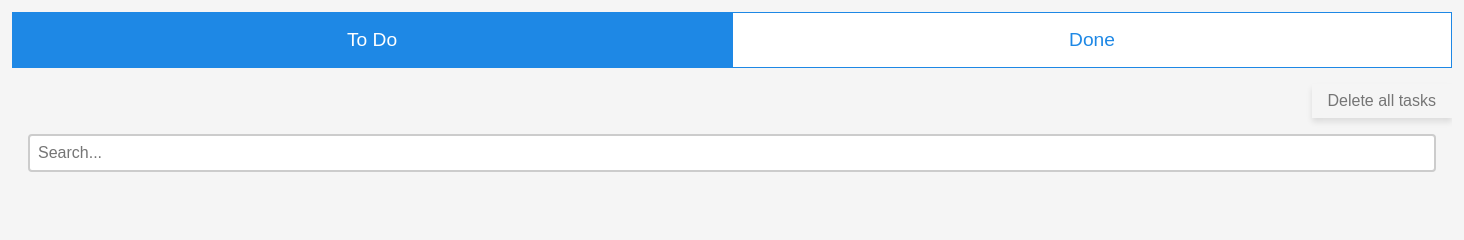
Test: TodoList › displays completed todos when the "Done" tab is clicked
Click the button "Done": (1092, 40) [732, 12, 1452, 68]
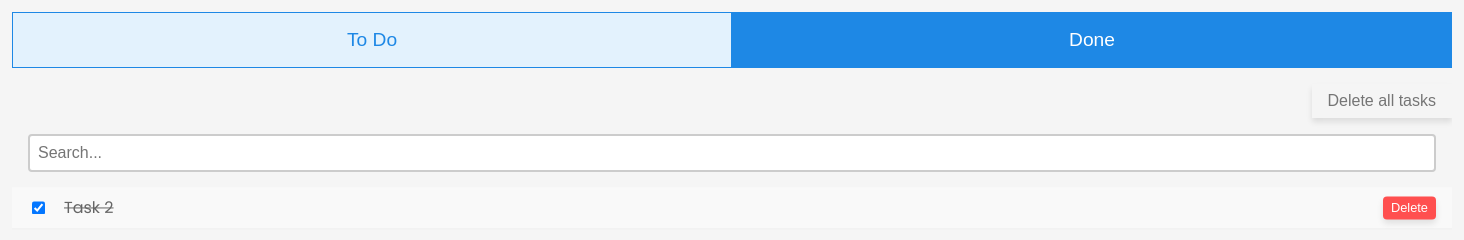
Now the text "Task 2" is shown, box [64, 196, 114, 219]
